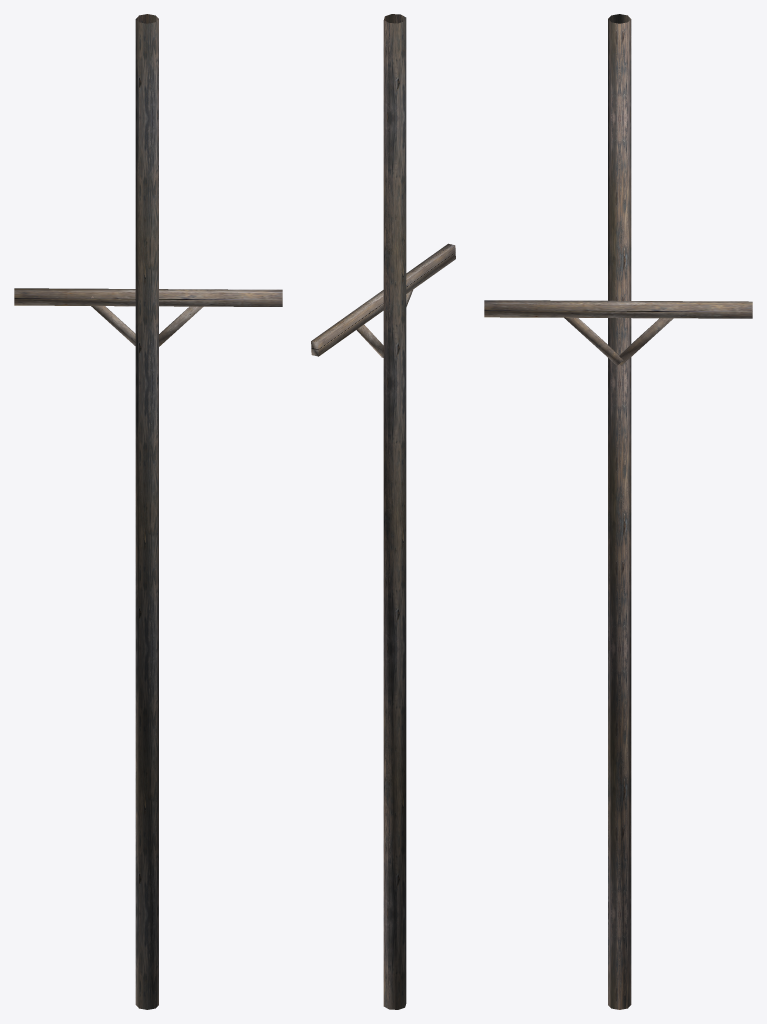
Rendered from PowerPoleJuct.fbx.
The picture shows the model from 3 angles, left to right: view 1: azimuth 90°, elevation 25°; view 2: azimuth 150°, elevation 25°; view 3: azimuth 270°, elevation 25°; orthographic projection.
Parts seen in each view (by area): view 1: pole0, main0; view 2: pole0, main0; view 3: pole0, main0.
Boxes of the visible parts, x1=… form: pole0: x1=135, y1=14, x2=158, y2=1009; main0: x1=14, y1=288, x2=282, y2=346; pole0: x1=383, y1=14, x2=406, y2=1009; main0: x1=311, y1=243, x2=455, y2=357; pole0: x1=608, y1=14, x2=631, y2=1009; main0: x1=484, y1=300, x2=752, y2=365.
Size of the model in its own units: 0.2708 by 9.3 by 2.3.
